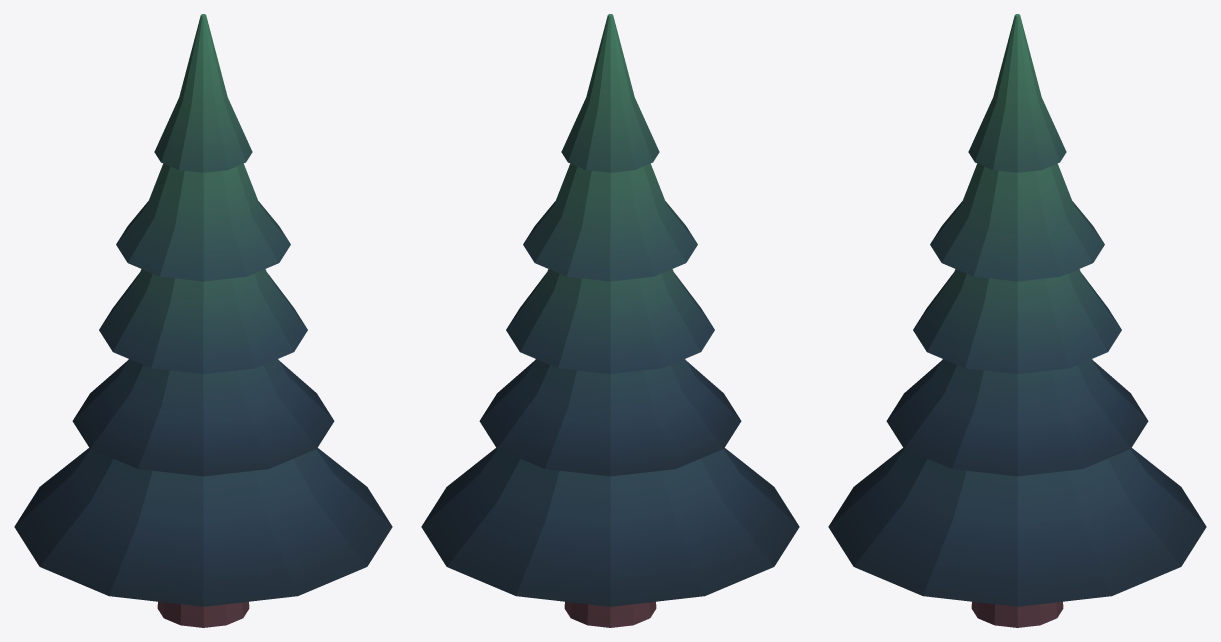
Rendered from tree.fbx.
The picture shows the model from 3 angles, left to right: view 1: azimuth 30°, elevation 25°; view 2: azimuth 150°, elevation 25°; view 3: azimuth 270°, elevation 25°; orthographic projection.
Parts seen in each view (by area): view 1: pCylinder57; view 2: pCylinder57; view 3: pCylinder57.
Part boxes in pixels (<box>): pCylinder57: <box>14,14,392,627</box>; pCylinder57: <box>421,14,799,627</box>; pCylinder57: <box>828,14,1206,627</box>.
Bounding box in the file's own units: 1.11 × 1.91 × 1.11.
